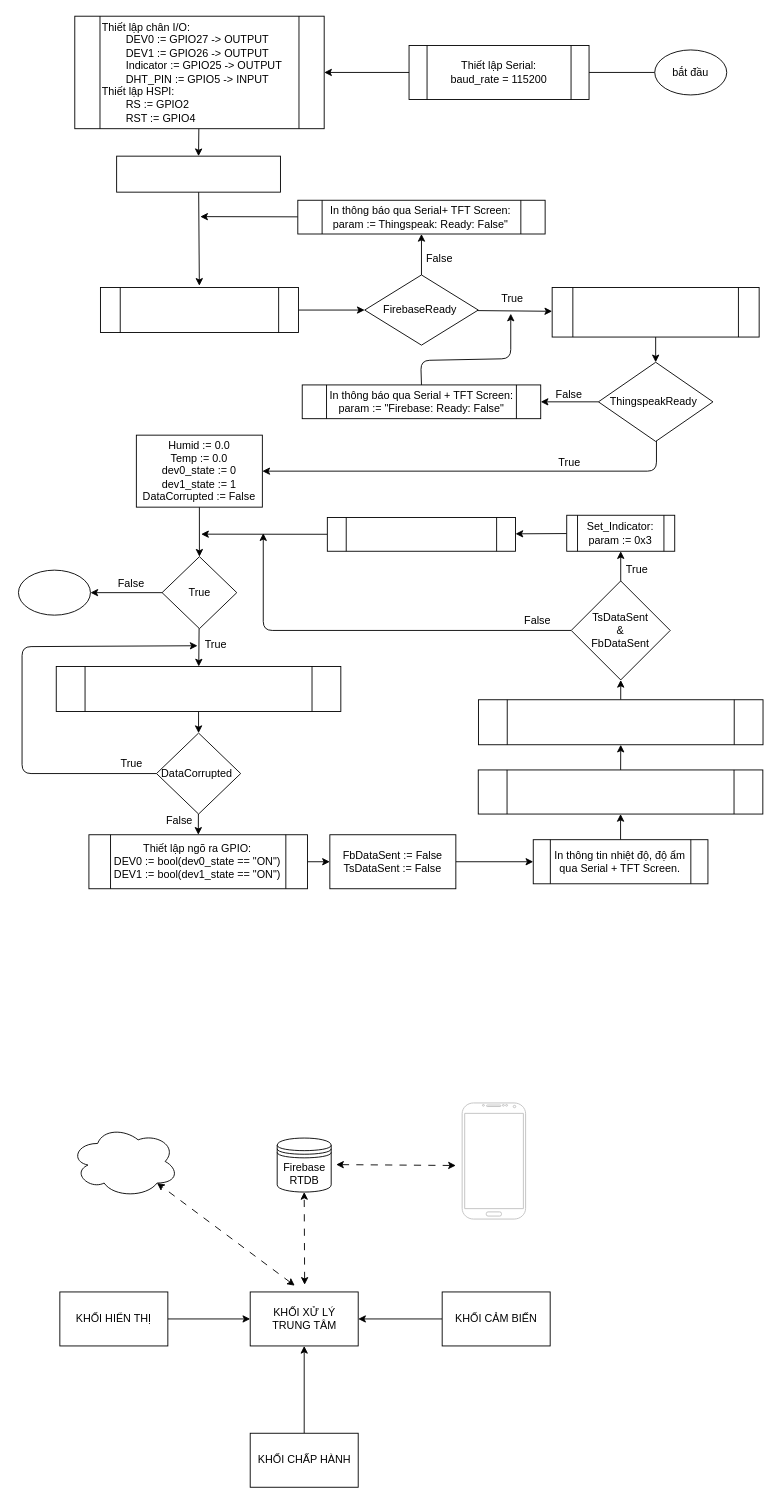
The diagram is 779 pixels wide and 1503 high, and some of its shapes have lost their labels. Each missing label, with the centre of its shape:
FirebaseReady := False ThingspeakReady := False: point 198,173
Gởi dữ liệu lên Firebase: param := (Temp, Humid) FbDataSent := return_value: point 620,722
Gởi dữ liệu lên Thingspeak: param := (Temp, Humid) TsDataSent := return_value: point 620,791
In thông báo qua Serial: param := "Update data failed!": point 421,534
Khởi tạo kết nối Firebase FirebaseReady := return_value: point 199,310
Khởi tạo kết nối Thingspeak ThingspeakReady := return_value: point 655,312
kết thúc: point 54,592
ThingSpeak: point 124,1161
Đọc dữ liệu từ DHT11: (dev0_state, dev1_state) := return_value: point 198,688
Ứng dụng di động (Android): point 493,1160
